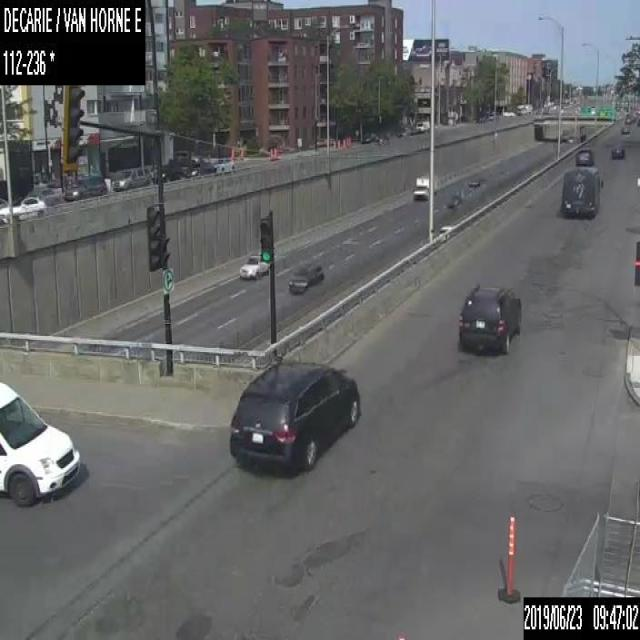construction: (496, 512, 520, 605), (272, 147, 276, 159), (269, 148, 273, 159), (239, 147, 243, 157), (230, 148, 234, 157), (342, 137, 345, 148), (345, 137, 348, 147), (348, 136, 350, 147), (337, 138, 339, 148), (333, 140, 335, 150)
vehicle: (228, 358, 360, 466), (0, 379, 82, 504), (457, 283, 522, 352), (559, 164, 601, 217), (0, 194, 45, 224), (286, 261, 324, 294), (112, 165, 153, 191), (62, 177, 107, 200), (237, 252, 268, 279), (152, 156, 182, 183), (413, 173, 438, 200), (183, 162, 214, 178), (211, 158, 234, 172), (575, 148, 594, 164), (433, 225, 451, 240), (611, 146, 624, 158), (415, 120, 429, 131), (621, 125, 628, 133), (625, 115, 631, 123)
